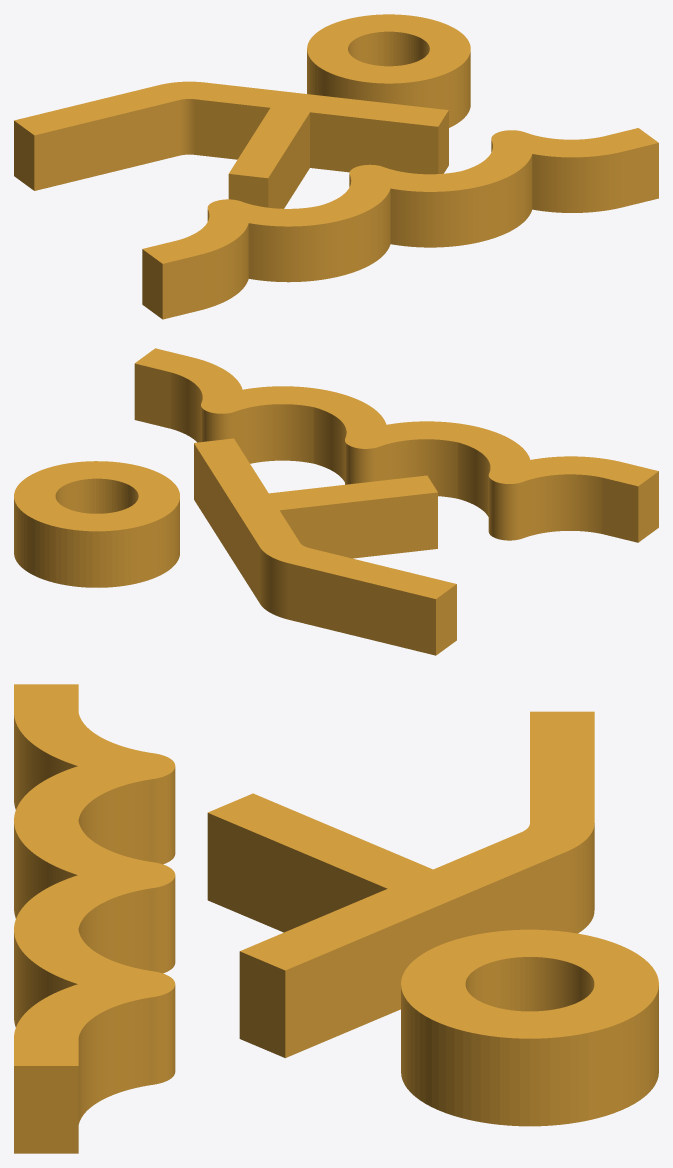
The model's file is swim.glb.
3 renders of one model, top to bottom at view 1: azimuth 30°, elevation 25°; view 2: azimuth 150°, elevation 25°; view 3: azimuth 270°, elevation 25°, orthographic. The views are drawn at different scales.
Visible parts, largest first — view 1: Path (×3); view 2: Path (×3); view 3: Path (×3).
Part boxes in pixels (left/top/right/bottom): Path (×3): left=14, top=14, right=658, bottom=319; Path (×3): left=14, top=348, right=658, bottom=655; Path (×3): left=14, top=684, right=658, bottom=1153.
Bounding box in the file's own units: 0.028 × 0.003 × 0.02.
